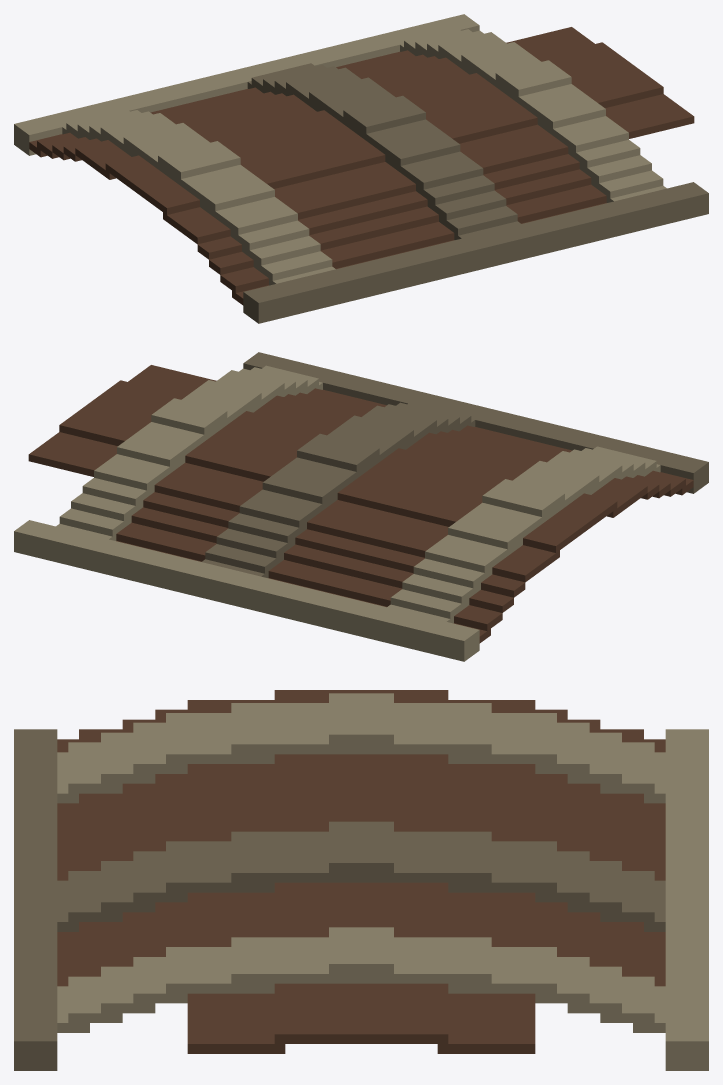
Rendered from scrap_esapi_plate.glb.
3 views of the same model, one above another, from view 1: azimuth 30°, elevation 25°; view 2: azimuth 150°, elevation 25°; view 3: azimuth 270°, elevation 25° (orthographic). The views are drawn at different scales.
Visible parts, largest first — view 1: scrap_esapi_plate:compound; view 2: scrap_esapi_plate:compound; view 3: scrap_esapi_plate:compound.
Boxes of the visible parts, left/top/right/bottom form: scrap_esapi_plate:compound: left=14, top=14, right=708, bottom=323; scrap_esapi_plate:compound: left=14, top=352, right=708, bottom=661; scrap_esapi_plate:compound: left=14, top=690, right=708, bottom=1070.
Size of the model in its own units: 0.3 by 0.036 by 0.256.
